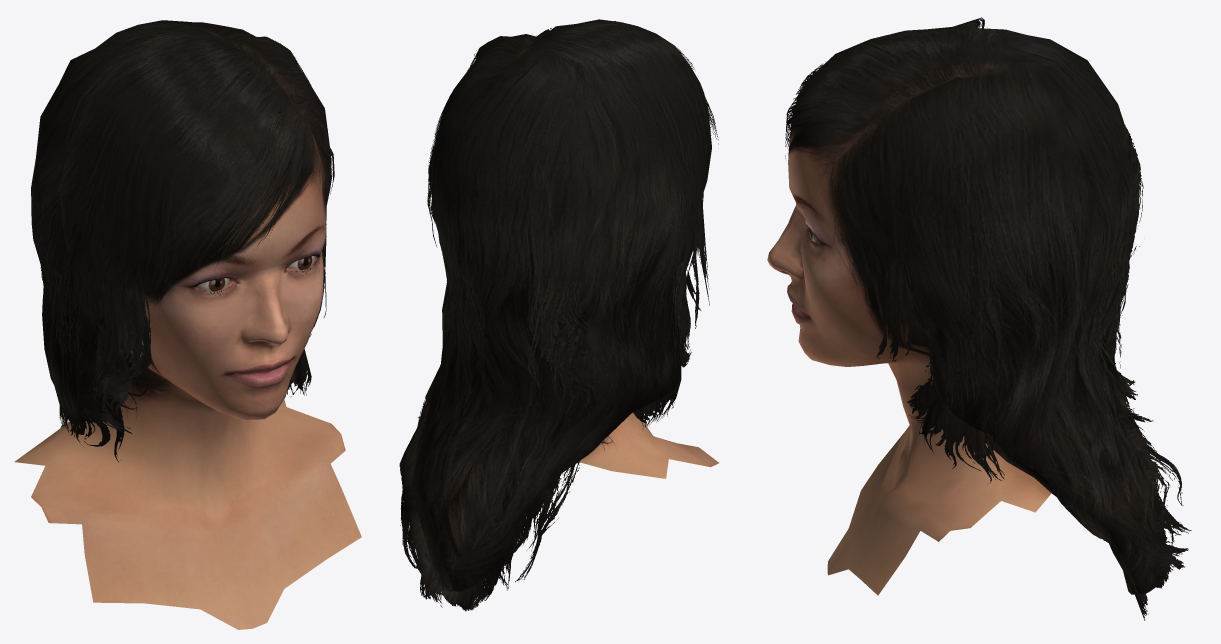
File: aiko.glb
The picture shows the model from 3 angles, left to right: view 1: azimuth 30°, elevation 25°; view 2: azimuth 150°, elevation 25°; view 3: azimuth 270°, elevation 25°; orthographic projection. The views are drawn at different scales.
Visible parts, largest first — view 1: skin, hair, eyes; view 2: skin, hair; view 3: skin, hair.
Boxes of the visible parts, x1,y1,x2,y2 form: skin: (14, 20, 361, 629); hair: (40, 27, 334, 461); eyes: (196, 256, 315, 291); skin: (412, 19, 718, 592); hair: (399, 21, 718, 611); skin: (767, 27, 1161, 595); hair: (785, 17, 1191, 620).
Size of the model in its own units: 0.2045 by 0.3756 by 0.2594.
Materials: 3 (3 with a texture image).
